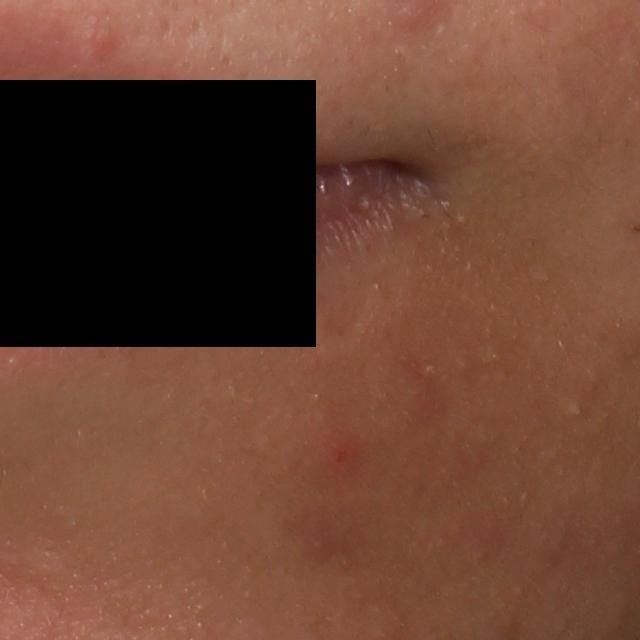comedo: (565, 397, 586, 422)
